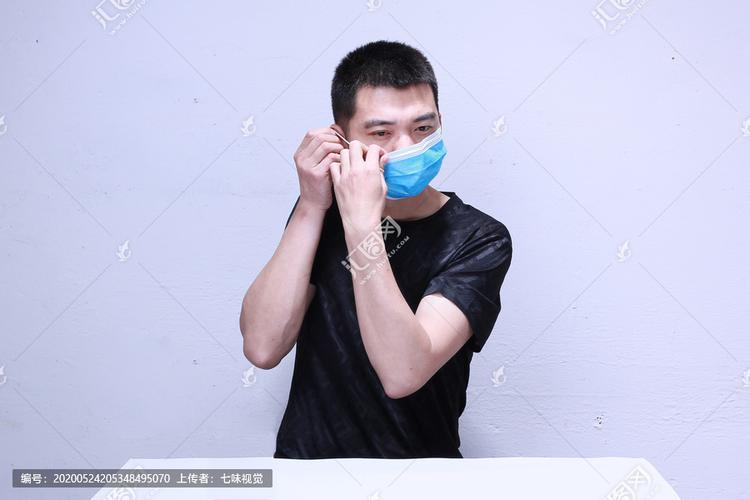mask: (349, 75, 457, 208)
